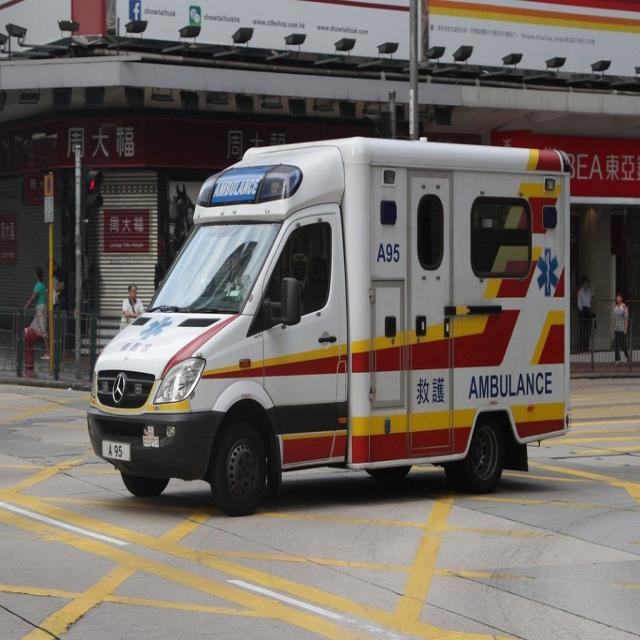ambulance: (86, 135, 572, 515)
